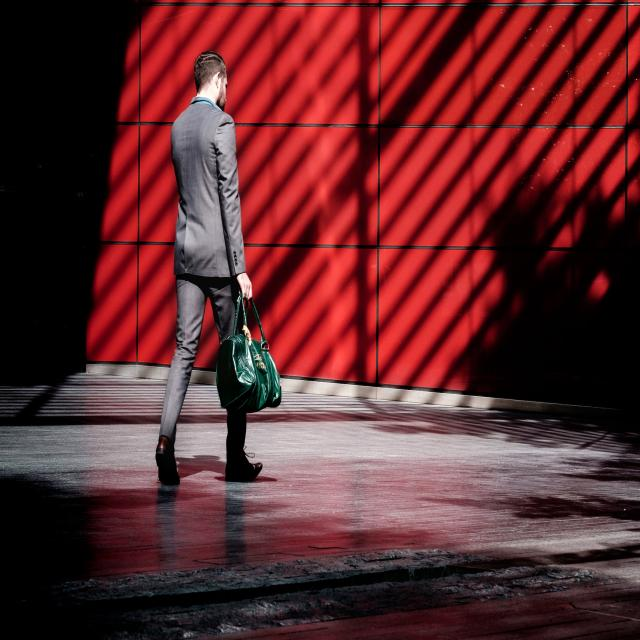adult: (151, 49, 262, 488)
